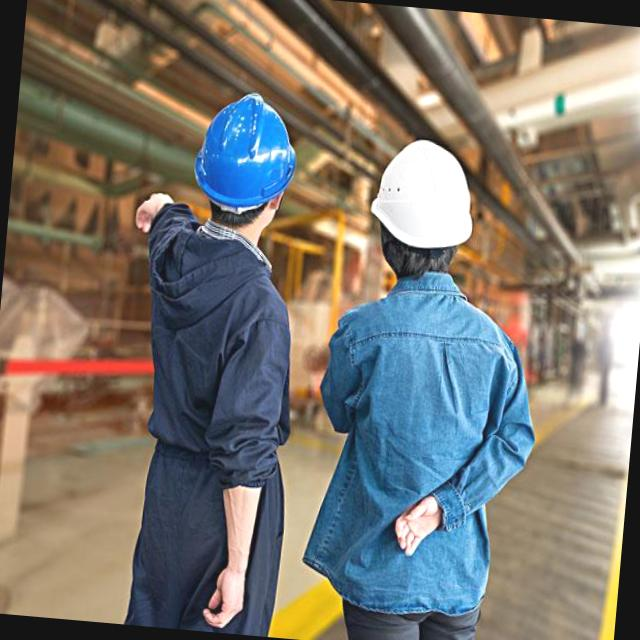helmet: (348, 130, 493, 260), (173, 90, 302, 222)
no-vest: (310, 262, 536, 616), (121, 206, 322, 508)
